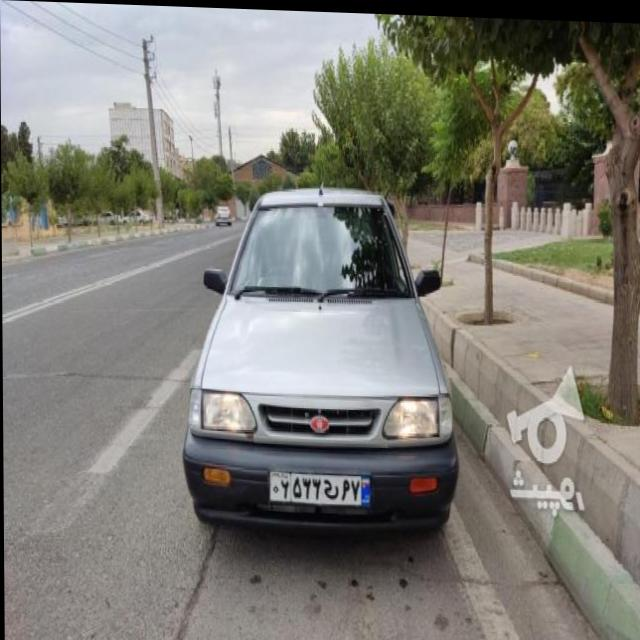licence: (269, 468, 375, 508)
